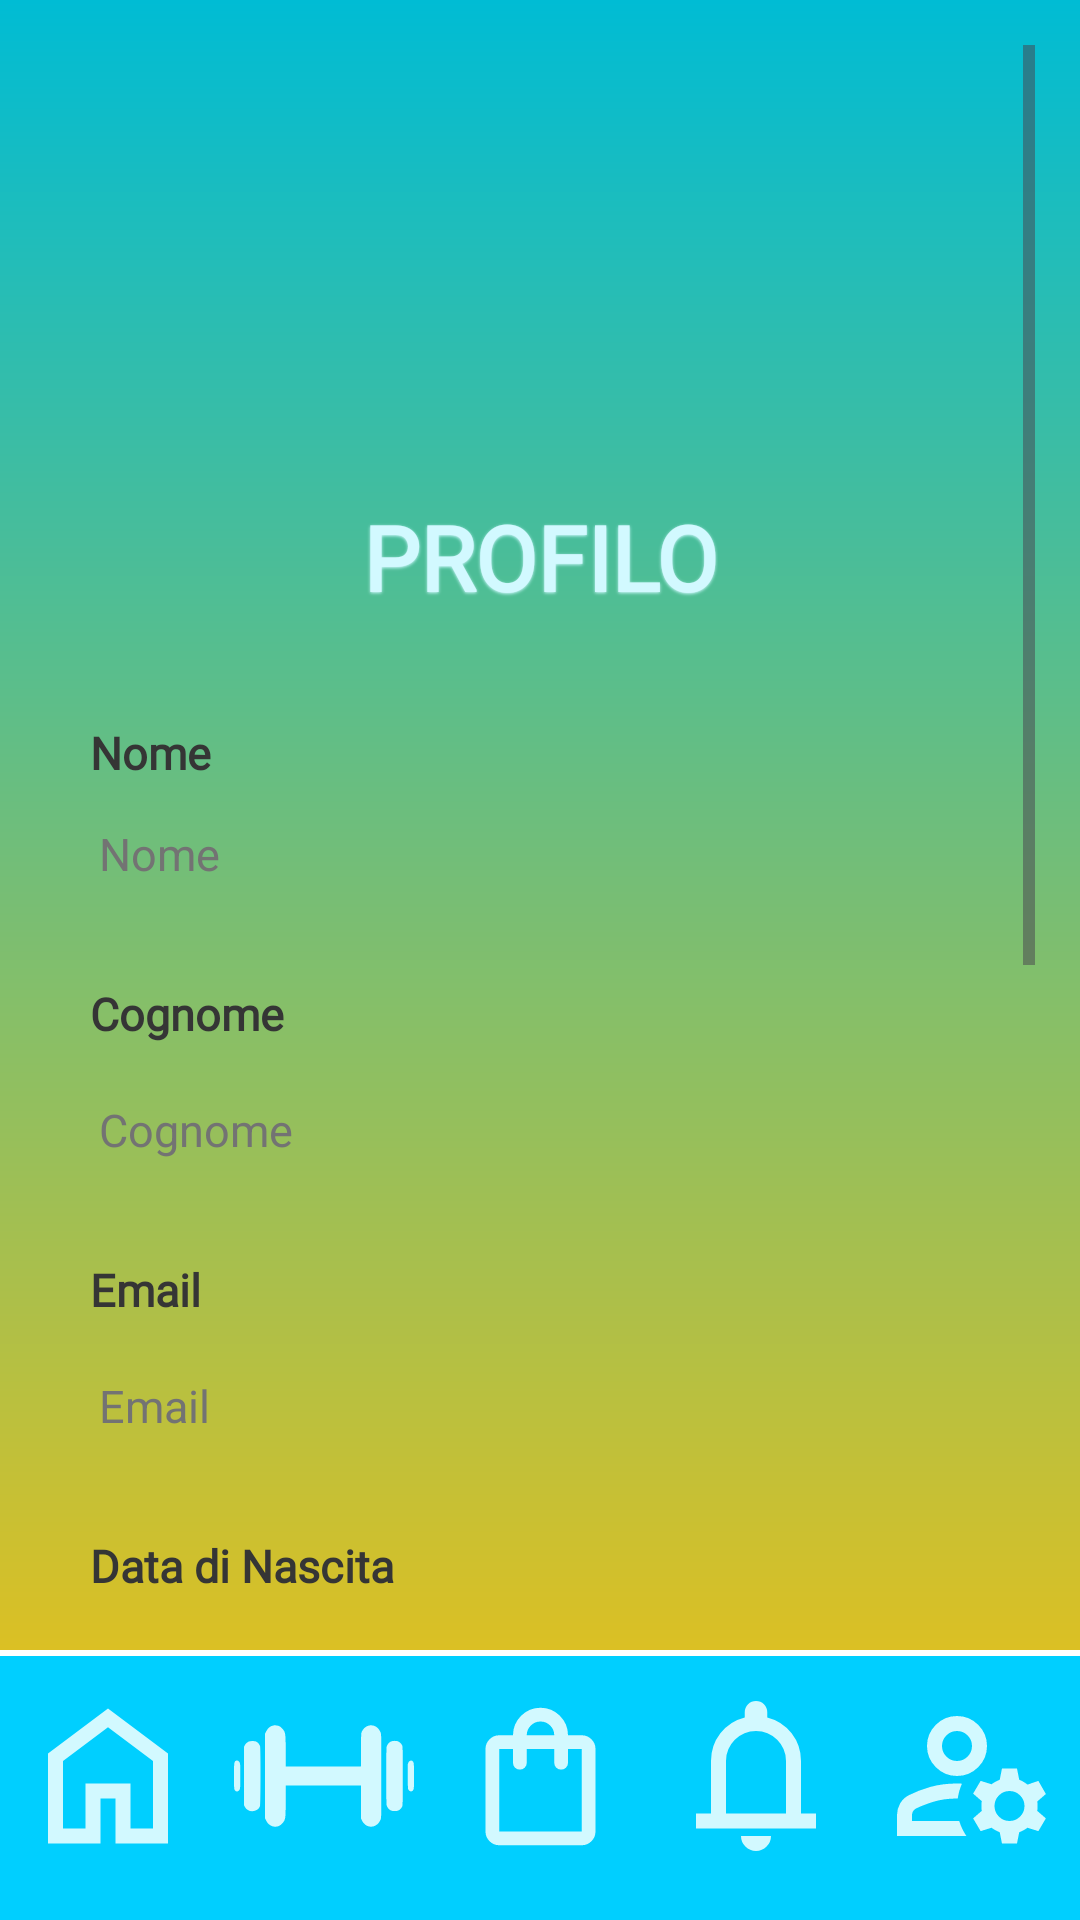

Point at icon controls on the screen. Image size 1080 × 1920, points as (x=x, y=y).
Home: (x=108, y=1776)
icona corsi: (x=324, y=1776)
icona negozio: (x=540, y=1776)
Notifiche: (x=756, y=1776)
Profilo: (x=971, y=1780)
